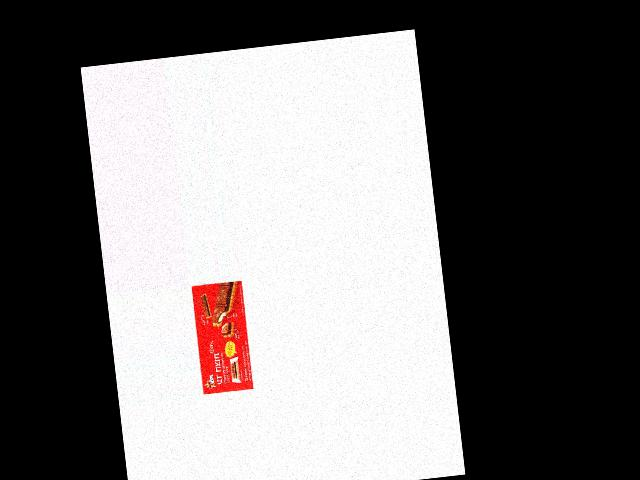chocolate: (190, 280, 254, 396)
